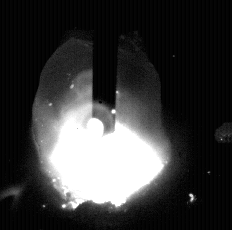arame: (93, 0, 117, 133)
poca: (33, 0, 165, 230)
